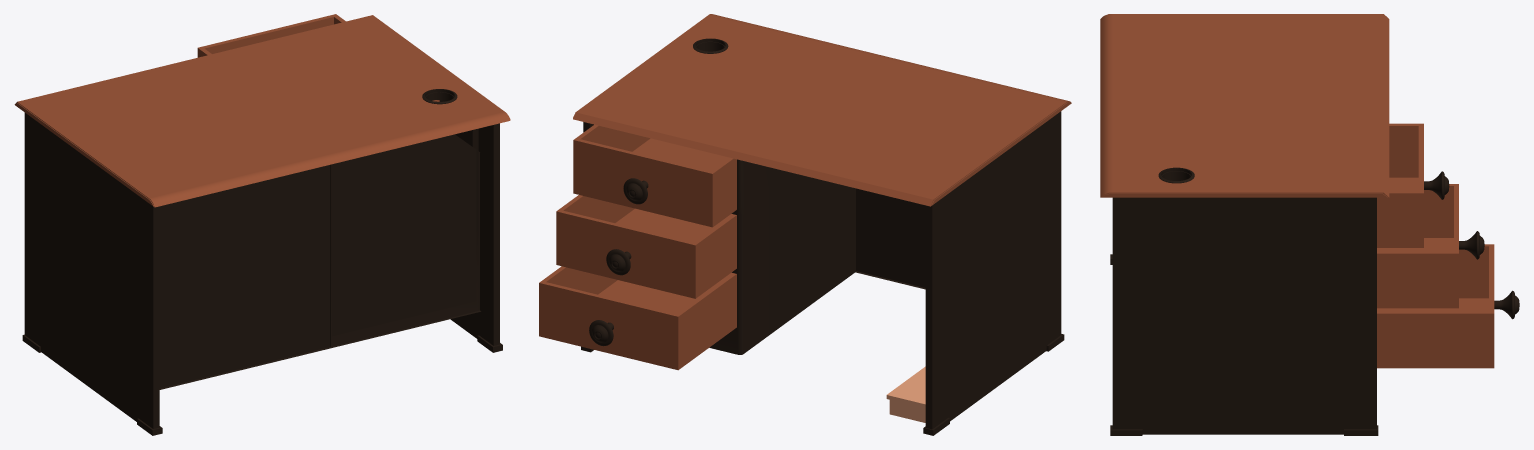
File: table.glb
3 views of the same model, side by side, from view 1: azimuth 30°, elevation 25°; view 2: azimuth 150°, elevation 25°; view 3: azimuth 270°, elevation 25° (orthographic). The views are drawn at different scales.
Parts seen in each view (by area): view 1: Cube.002, Cube.008, Cube, Cube.004, Cube.005; view 2: Cube.008, Cube, Cube.004, Cube.007, Cube.006, Cube.005, Cube.002, Cube.003, Cylinder, Cylinder.001, Cylinder.002; view 3: Cube, Cube.008, Cube.007, Cube.006, Cube.005, Cube.001, Cylinder.002, Cylinder.001, Cylinder.
Boxes of the visible parts, x1,y1,x2,y2 form: Cube.002: [159, 134, 481, 389]; Cube.008: [14, 15, 510, 207]; Cube: [22, 112, 502, 435]; Cube.004: [330, 128, 478, 346]; Cube.005: [197, 14, 439, 101]; Cube.008: [573, 14, 1071, 206]; Cube: [581, 111, 1064, 435]; Cube.004: [593, 124, 855, 354]; Cube.007: [539, 266, 736, 370]; Cube.006: [556, 195, 736, 298]; Cube.005: [573, 124, 736, 227]; Cube.002: [855, 188, 925, 289]; Cube.003: [886, 366, 925, 422]; Cylinder: [623, 178, 648, 204]; Cylinder.001: [606, 249, 631, 275]; Cylinder.002: [589, 320, 613, 346]; Cube: [1110, 197, 1378, 435]; Cube.008: [1100, 14, 1389, 197]; Cube.007: [1377, 244, 1494, 368]; Cube.006: [1377, 184, 1458, 308]; Cube.005: [1377, 123, 1423, 247]; Cube.001: [1158, 167, 1194, 183]; Cylinder.002: [1494, 290, 1519, 319]; Cylinder.001: [1459, 231, 1484, 259]; Cylinder: [1424, 171, 1449, 199].
Bounding box in the file's own units: 3.62 × 2.31 × 3.58.
